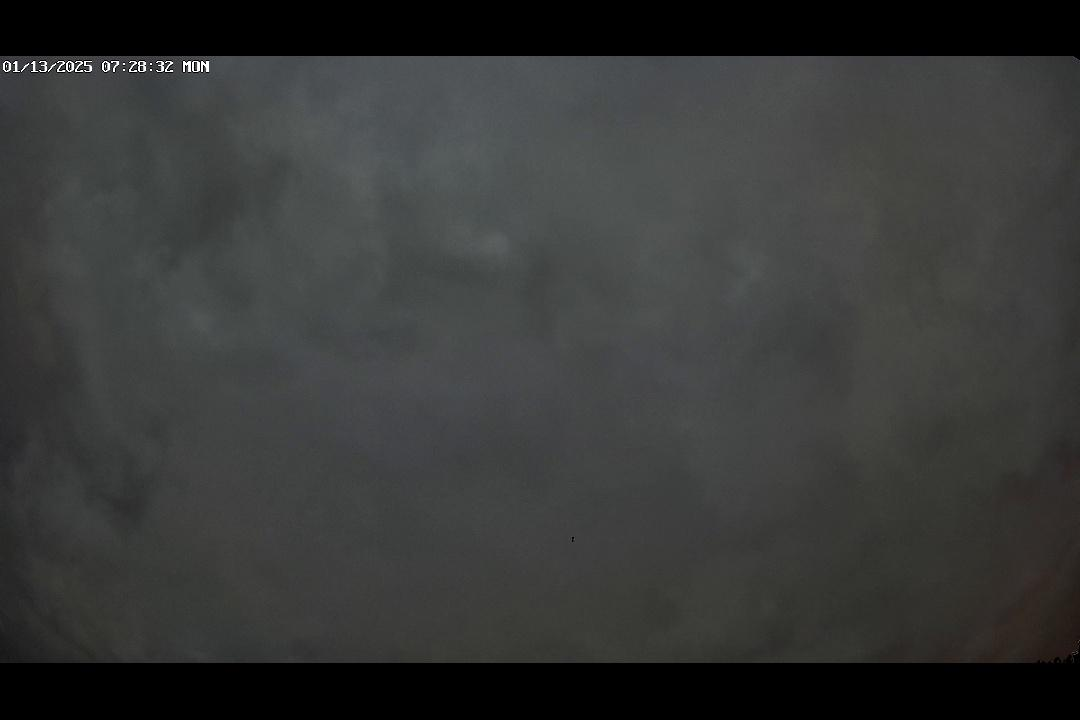WildLife: (557, 533, 588, 549)
